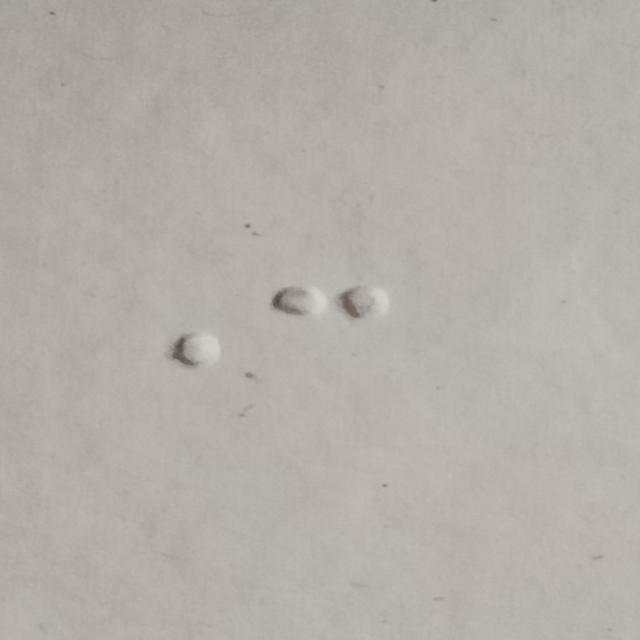dot_5: (106, 285, 219, 398)
two_cell_alphabet_karaniwan: (275, 285, 388, 398)
